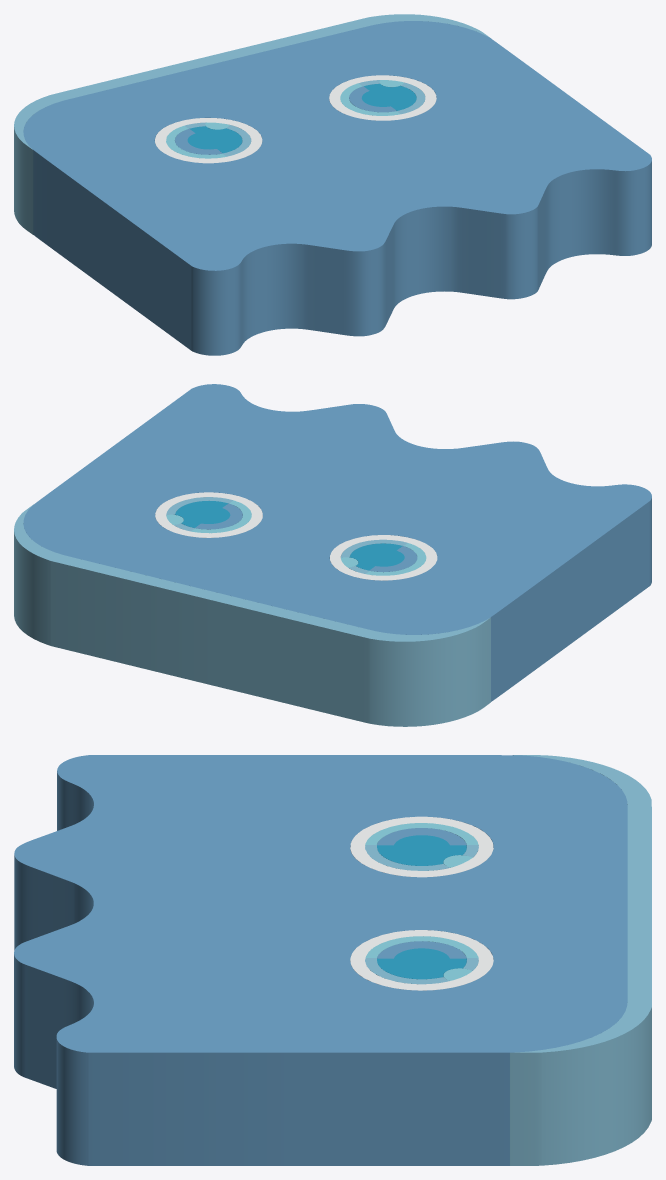
3 views of the same model, one above another, from view 1: azimuth 30°, elevation 25°; view 2: azimuth 150°, elevation 25°; view 3: azimuth 270°, elevation 25° (orthographic). The views are drawn at different scales.
Parts seen in each view (by area): view 1: path0, path2, path1, path3, path4; view 2: path0, path2, path1, path3, path4; view 3: path0, path2, path1, path3, path4.
Part boxes in pixels (bbox=[...]): path0: bbox=[23, 21, 651, 355]; path2: bbox=[14, 14, 489, 234]; path1: bbox=[155, 75, 436, 163]; path3: bbox=[187, 83, 416, 153]; path4: bbox=[166, 80, 403, 158]; path0: bbox=[23, 384, 651, 701]; path2: bbox=[14, 497, 490, 726]; path1: bbox=[155, 492, 437, 580]; path3: bbox=[175, 501, 404, 570]; path4: bbox=[166, 497, 426, 575]; path0: bbox=[14, 755, 627, 1165]; path2: bbox=[365, 755, 651, 1165]; path1: bbox=[350, 816, 493, 990]; path3: bbox=[377, 835, 466, 979]; path4: bbox=[365, 823, 478, 980].
Bounding box in the file's own units: 0.1129 × 0.02 × 0.1022.
